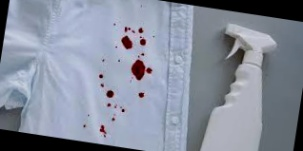blood: (104, 103, 128, 123), (130, 59, 147, 82), (119, 35, 134, 50), (123, 26, 144, 34), (98, 125, 107, 137), (106, 90, 113, 98), (138, 91, 145, 98), (140, 39, 146, 45), (99, 83, 106, 88), (97, 74, 103, 79)
